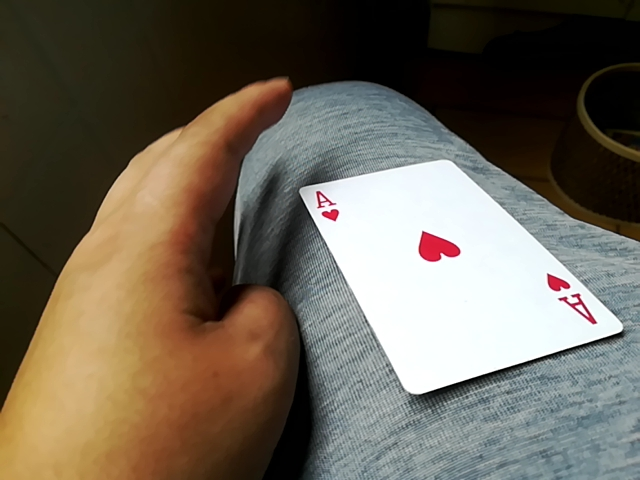hx a: (301, 157, 621, 397)
